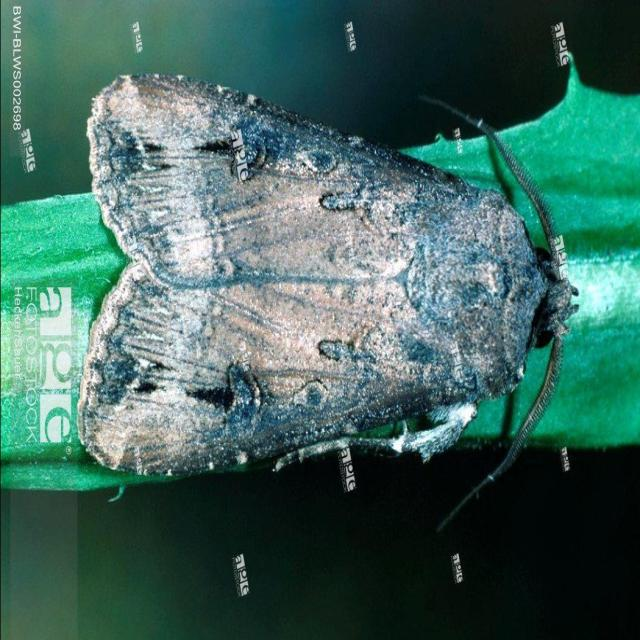black cutworm: (77, 73, 572, 511)
